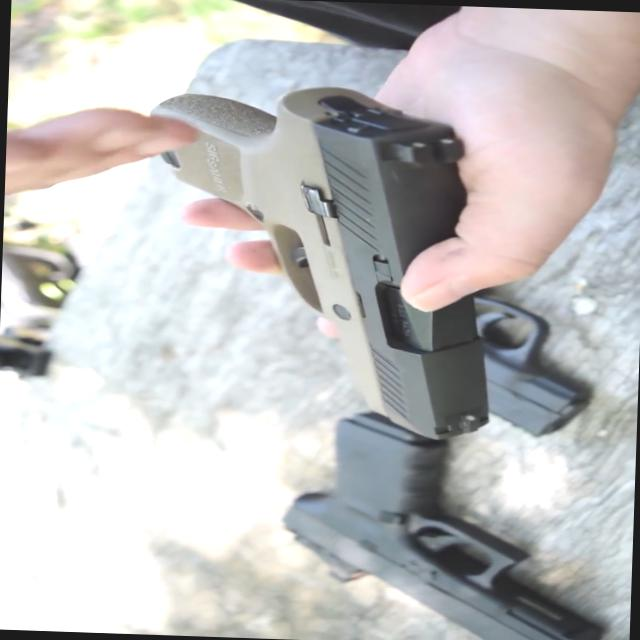handgun: (140, 39, 506, 461), (278, 388, 605, 639)
